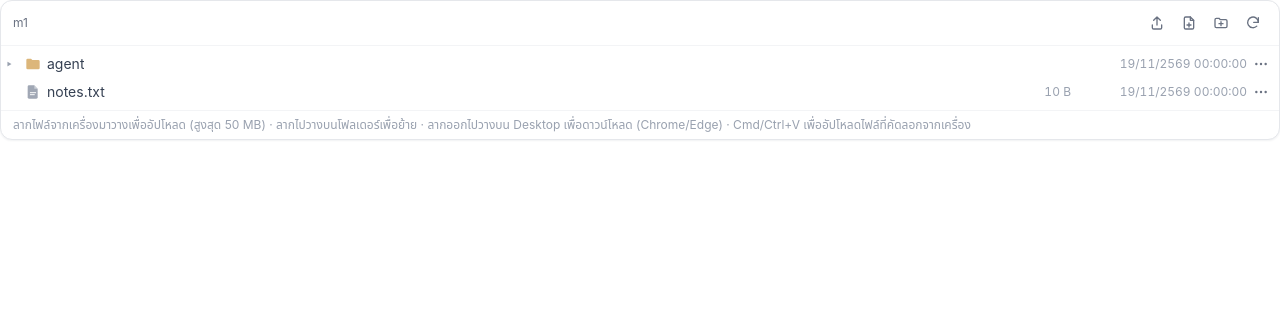
Test: FilesTab tree › clicking a folder expands it, lists it lazily and indents its children
Later steps or results of the test are not shown.
Check: the button "notes.txt" is shown, box [7,78,991,106]
Step 1. Click the button "▸ agent" → click(66, 64), box [7,50,1071,78]
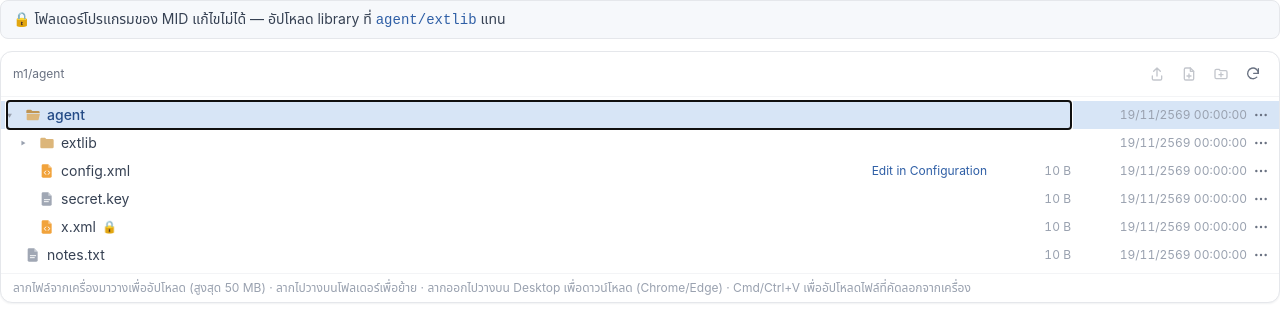
Check: the button "x.xml 🔒" is shown, box [21,213,991,241]
Check: the button "▾ agent" is expanded, box [7,101,1071,129]
